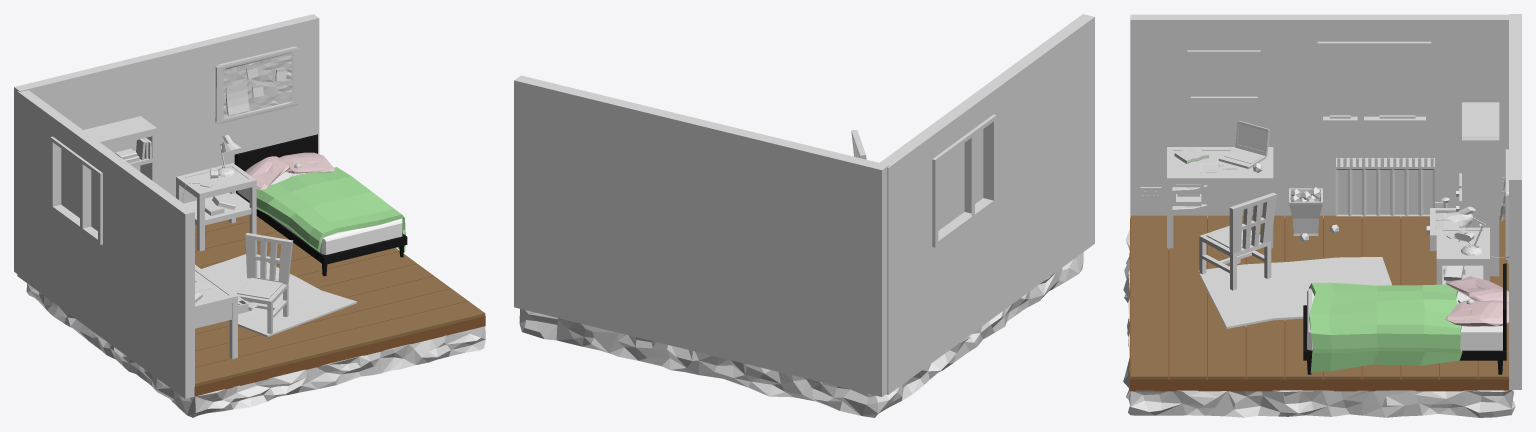
The model's file is room.fbx.
3 renders of one model, left to right at view 1: azimuth 30°, elevation 25°; view 2: azimuth 150°, elevation 25°; view 3: azimuth 270°, elevation 25°, orthographic. The views are drawn at different scales.
Parts seen in each view (by area): view 1: wall, Cube.001, Cube.013, Cube.057, Cube.004, Cube.027, Cube.007, Cube.046, Cube, Cube.003, WINDOWFRAME, Cube.052 (+8 smaller); view 2: Cube.001, wall, Cube.057, WINDOWFRAME, Plane.002; view 3: wall, Cube.013, Cube.004, Cube.057, Cube.027, Plane.002, Cube, Cube.031, Cube.002, Cube.001, Cube.046, Cube.030 (+13 smaller).
Boxes of the visible parts, x1,y1,x2,y2 form: wall: (17,90,194,398); Cube.001: (14,14,319,273); Cube.013: (195,214,485,386); Cube.057: (26,283,485,417); Cube.004: (256,167,405,252); Cube.027: (201,254,356,337); Cube.007: (176,163,256,251); Cube.046: (233,233,293,333); Cube: (194,315,485,396); Cube.003: (234,134,407,276); WINDOWFRAME: (50,136,102,244); Cube.052: (223,53,291,117); Cube.001: (514,75,888,396); wall: (880,14,1094,394); Cube.057: (519,252,1083,417); WINDOWFRAME: (932,114,996,247); Plane.002: (938,129,983,230); wall: (1130,14,1508,218); Cube.013: (1130,215,1508,379); Cube.004: (1309,282,1462,372); Cube.057: (1123,229,1515,417); Cube.027: (1198,257,1391,328); Plane.002: (1323,47,1425,116); Cube: (1130,218,1511,391); Cube.031: (1459,102,1499,276); Cube.002: (1335,160,1434,216); Cube.001: (1509,14,1521,389); Cube.046: (1199,192,1276,290); Cube.030: (1187,50,1260,99).
Size of the model in its own units: 317 by 204 by 312.
